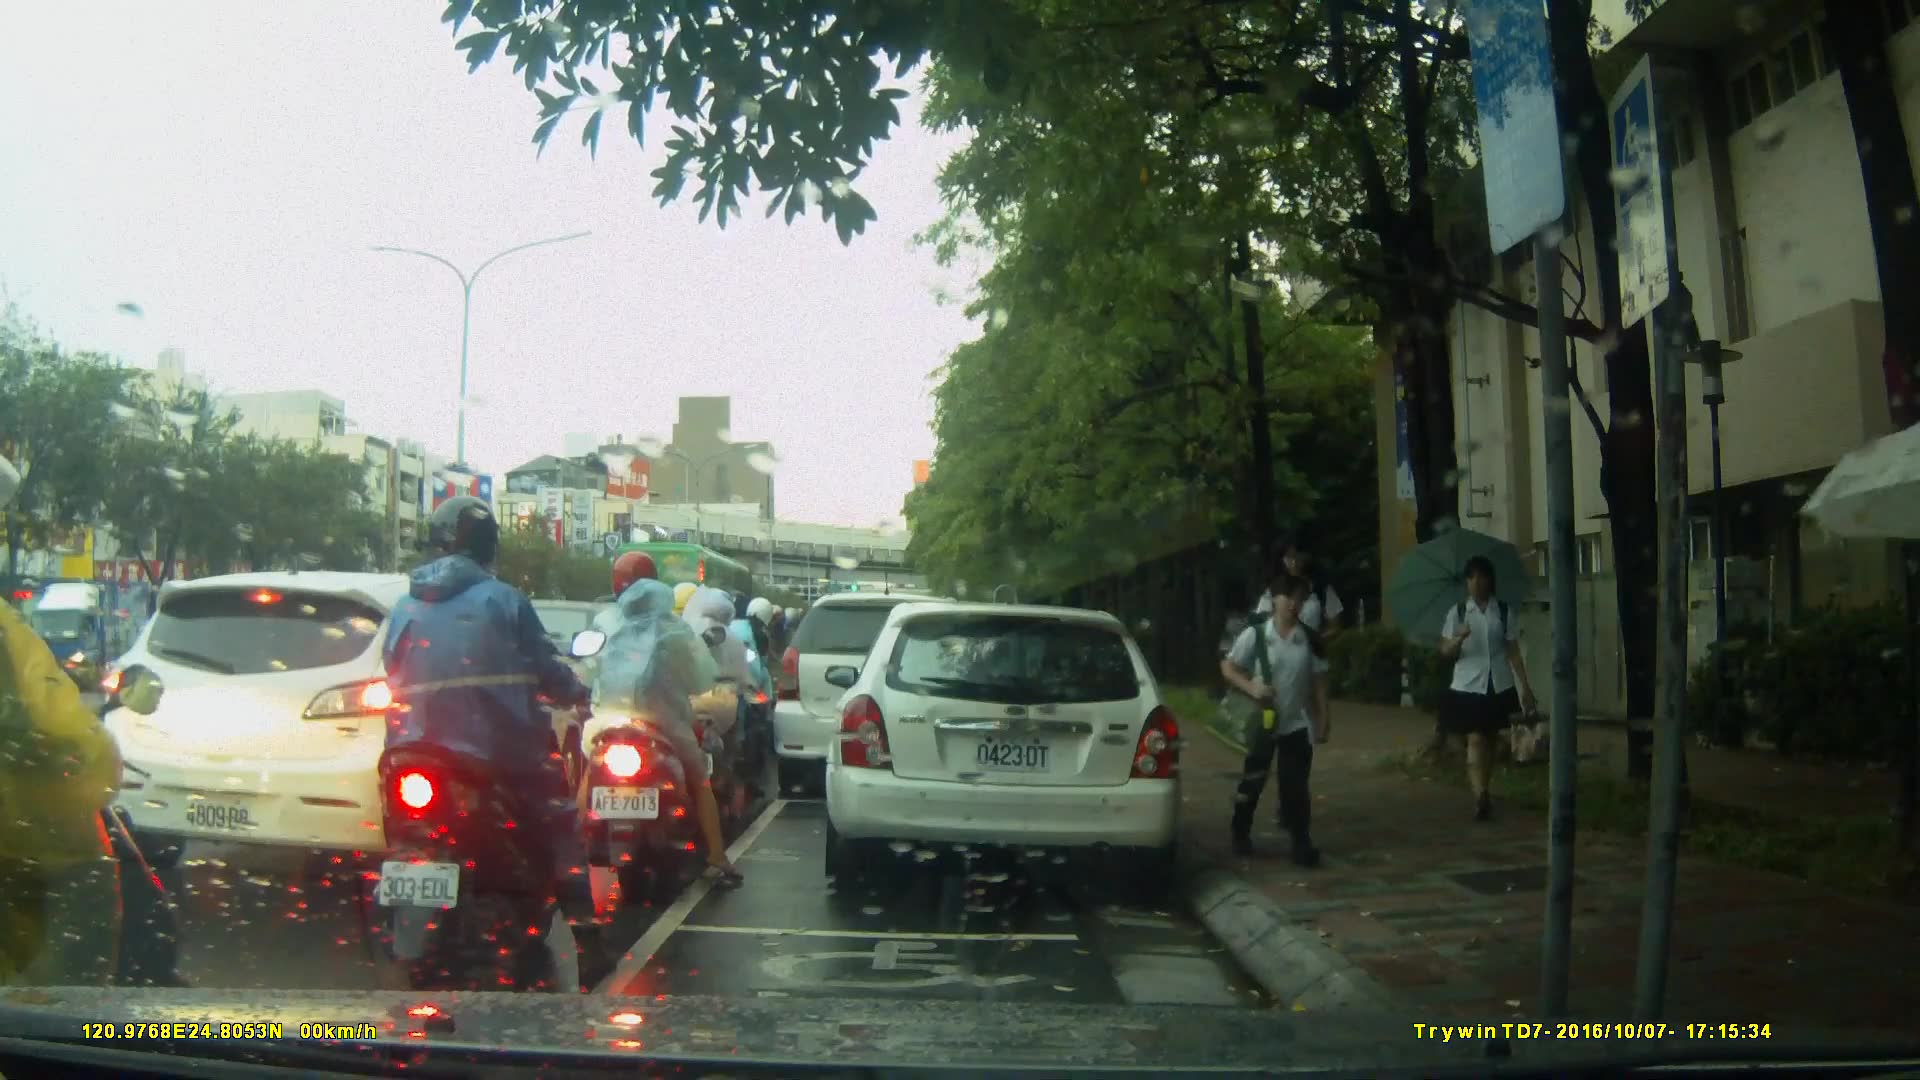pedestrian: (1217, 562, 1341, 858), (1428, 544, 1532, 827), (1261, 536, 1349, 836)
rider: (377, 490, 613, 968), (1, 455, 180, 1080), (563, 555, 746, 902), (640, 578, 764, 823), (698, 594, 780, 775)
vehicle: (94, 569, 617, 883), (822, 604, 1187, 883), (774, 595, 995, 802), (20, 576, 199, 697)
